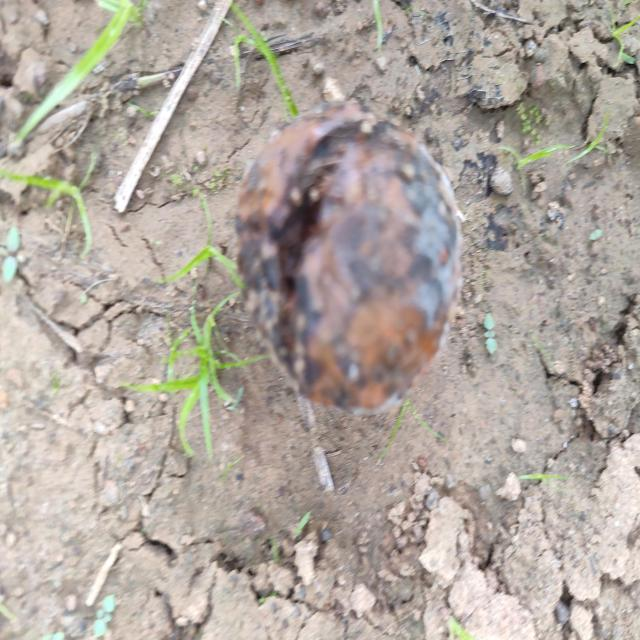damaged: (236, 101, 461, 412)
